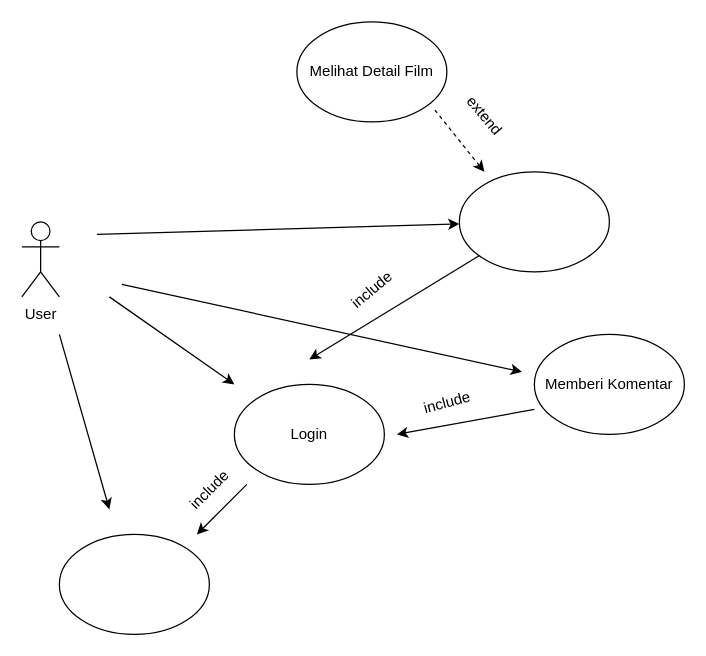
Image size: 706x656. Some labels were removed from this diagram. The shapes that lost their labels are listed below. From the top down, each one's centre as x and y in pixels, then its label:
point (533, 221): Melihat Daftar Film
point (133, 583): Register
